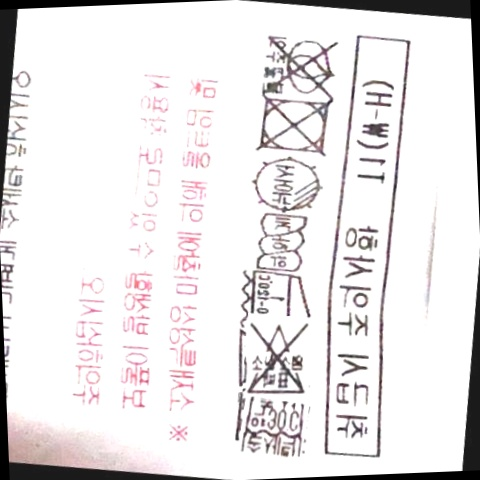DN_bleach: (239, 319, 313, 397)
DN_tumble_dry: (254, 91, 334, 161)
dry_flat_in_shade: (247, 155, 321, 215)
hand_wash: (240, 392, 307, 464)
iron_low: (236, 269, 312, 320)
wring: (247, 213, 307, 274)
